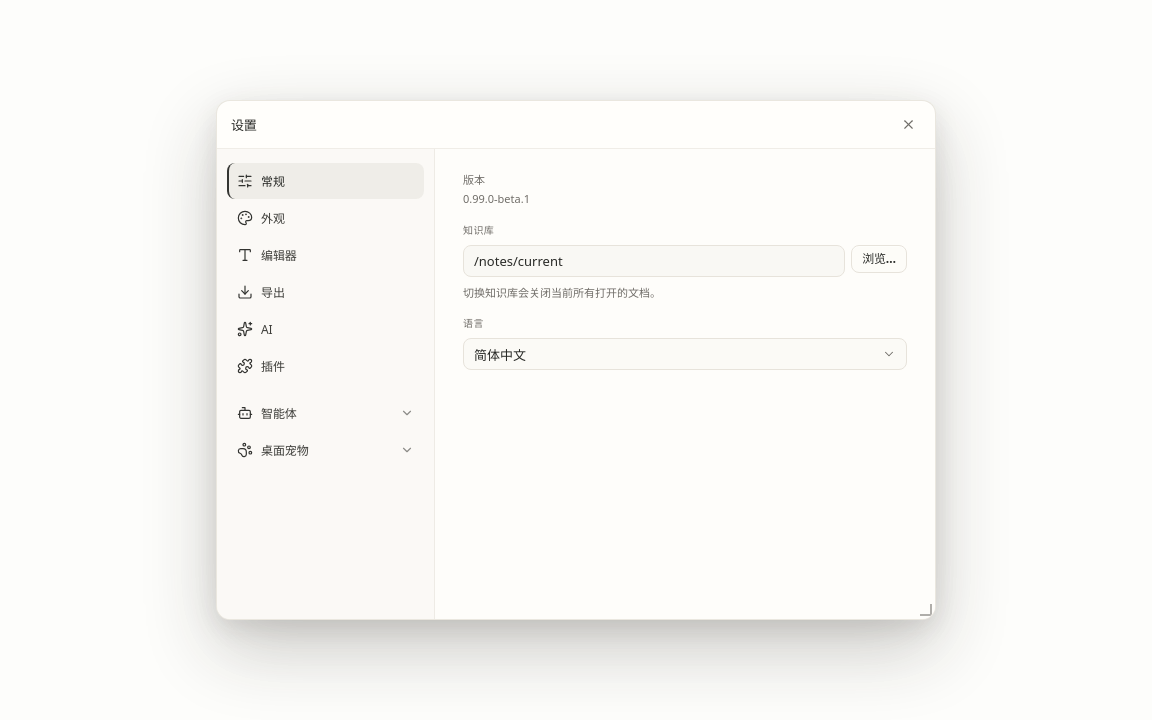
it: SettingsPanel vault field › follows the committed vault once the switch lands
This screenshot has width=1152, height=720.
Expected: the field named "/notes/current" holds "/notes/current", [463,244,845,276]
Click the button "浏览…" at point(879, 258), box [851,244,907,272]
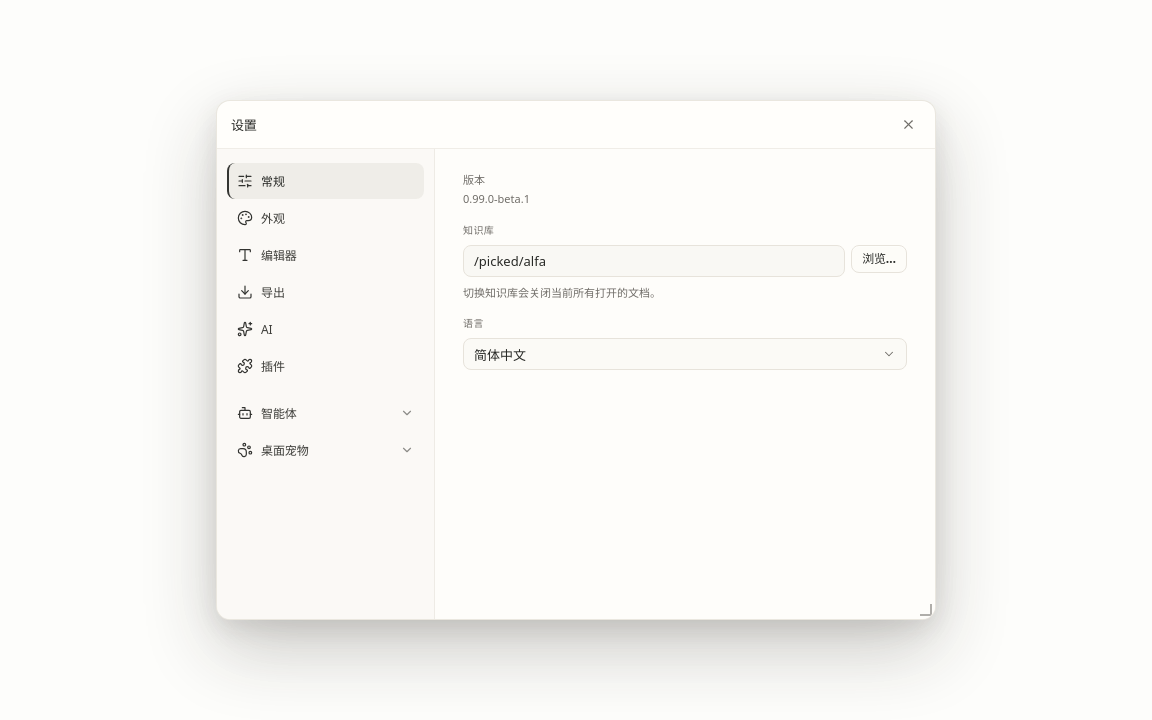
Expected: the field named "/picked/alfa" holds "/picked/alfa", [463,244,845,276]
